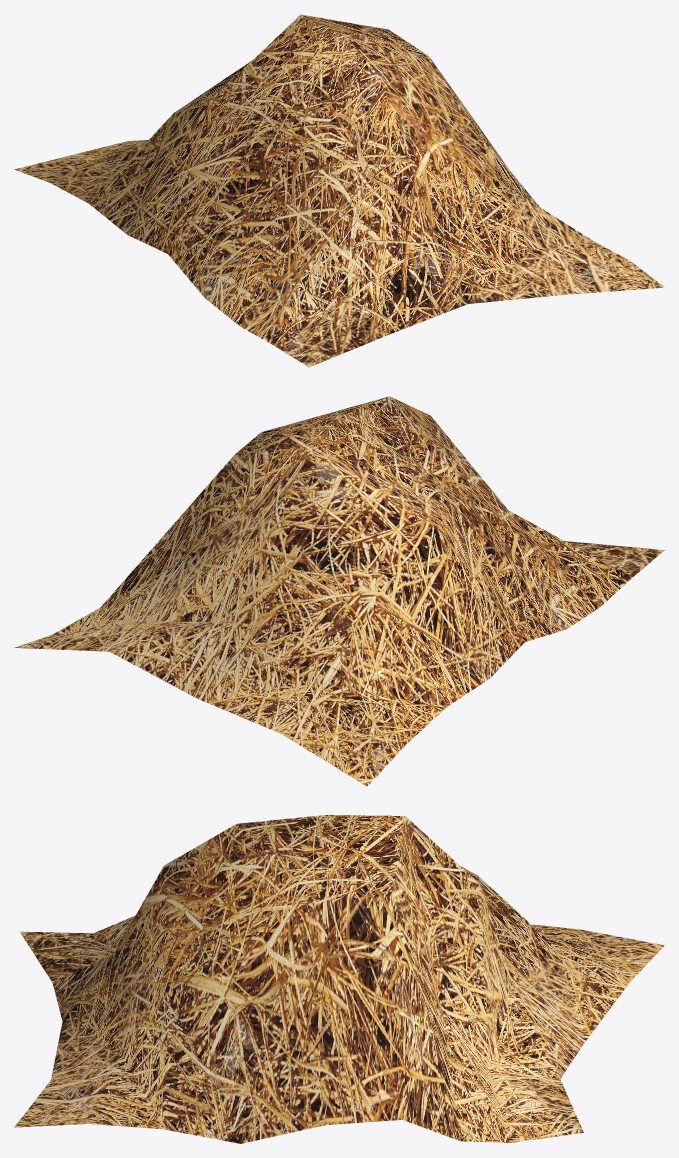
The model's file is Heuhaufen_2.fbx.
3 views of the same model, one above another, from view 1: azimuth 30°, elevation 25°; view 2: azimuth 150°, elevation 25°; view 3: azimuth 270°, elevation 25° (orthographic). The views are drawn at different scales.
Visible parts, largest first — view 1: 14399672-texture-of-straw-on-the-floor.001; view 2: 14399672-texture-of-straw-on-the-floor.001; view 3: 14399672-texture-of-straw-on-the-floor.001.
Part boxes in pixels (x1,y1,x2,y2): 14399672-texture-of-straw-on-the-floor.001: (14, 14, 664, 367); 14399672-texture-of-straw-on-the-floor.001: (14, 396, 664, 786); 14399672-texture-of-straw-on-the-floor.001: (14, 815, 664, 1143).
Bounding box in the file's own units: 107 × 56.74 × 144.
